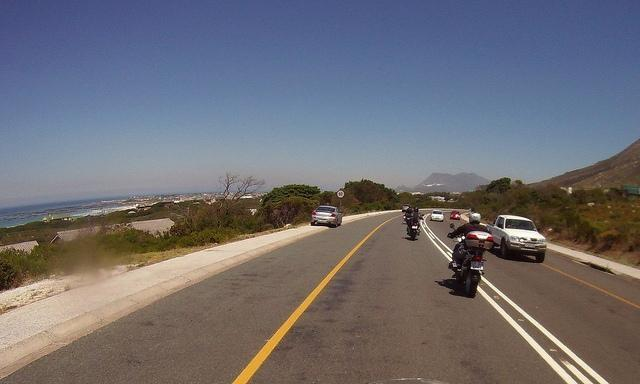car: (314, 206, 343, 228), (431, 210, 444, 222), (450, 210, 461, 220), (402, 204, 410, 212)
motorcycle: (456, 244, 485, 300), (405, 217, 421, 241)
truck: (487, 214, 546, 261)
